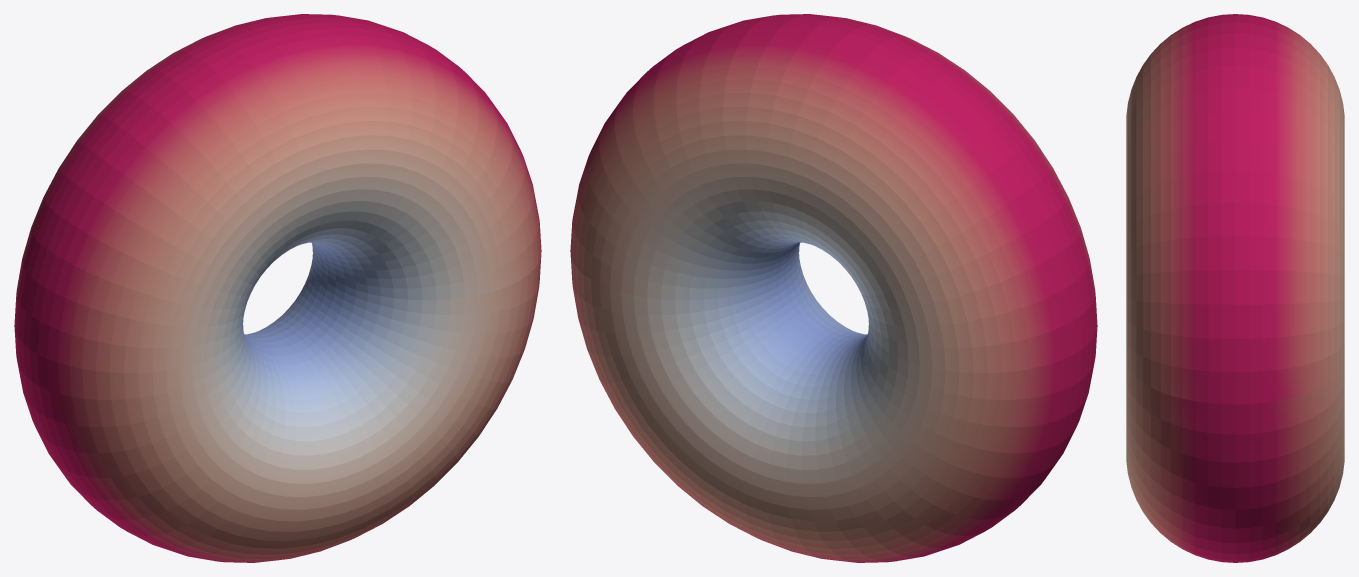
3 renders of one model, left to right at view 1: azimuth 30°, elevation 25°; view 2: azimuth 150°, elevation 25°; view 3: azimuth 270°, elevation 25°, orthographic. The views are drawn at different scales.
Parts seen in each view (by area): view 1: world; view 2: world; view 3: world.
Boxes of the visible parts, <box> form: world: <box>14,14,541,562</box>; world: <box>570,14,1097,562</box>; world: <box>1126,14,1344,562</box>.
Size of the model in its own units: 24.4 by 24.35 by 9.71.
